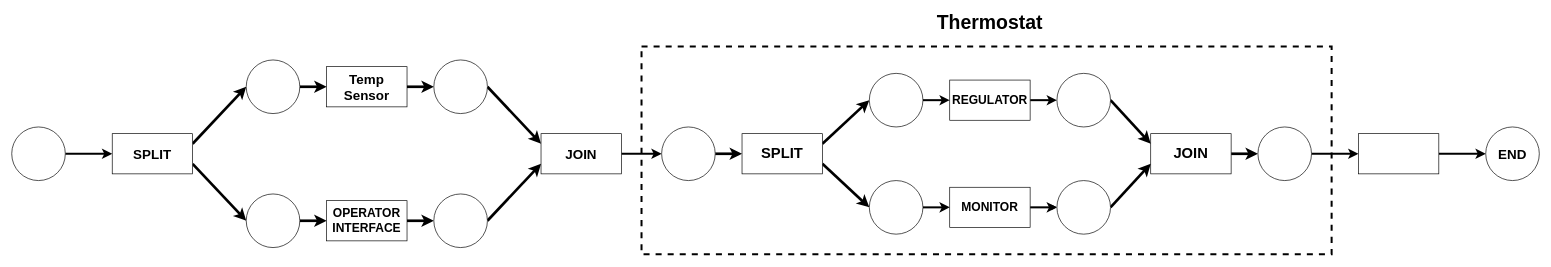
The diagram is 1551 pixels wide and 267 high, and some of its shapes have lost their labels. The shapes that lost their labels are listed below. From the top down, each one's box as (x1, y1, x2, y2) in pixels, then its label:
(11, 126, 65, 181): START
(1358, 133, 1439, 174): HEAT SOURCE
